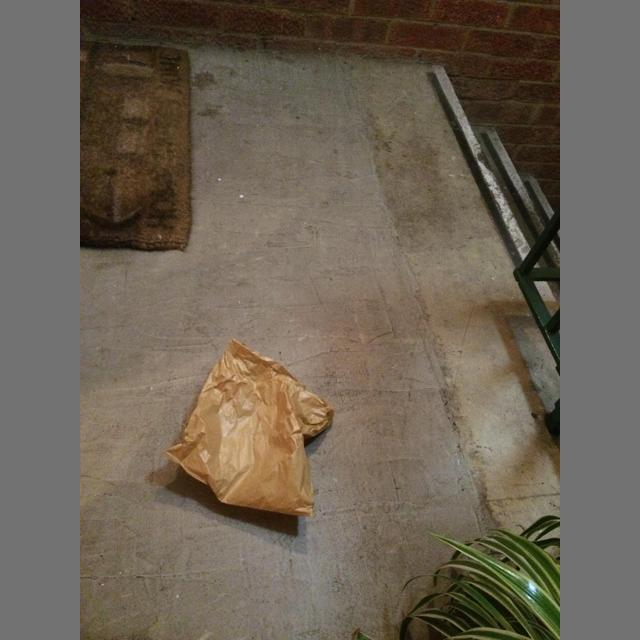litter: (162, 338, 334, 517)
